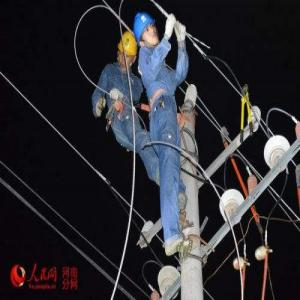blue: (134, 10, 161, 53)
yellow: (117, 29, 139, 73)
